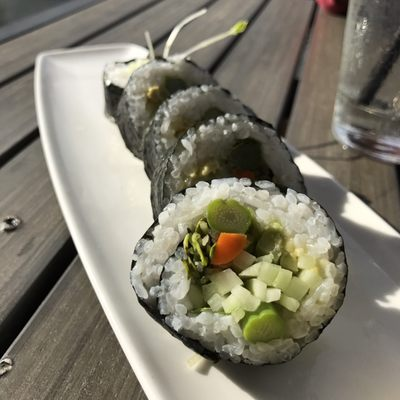sushi: (29, 7, 393, 399)
